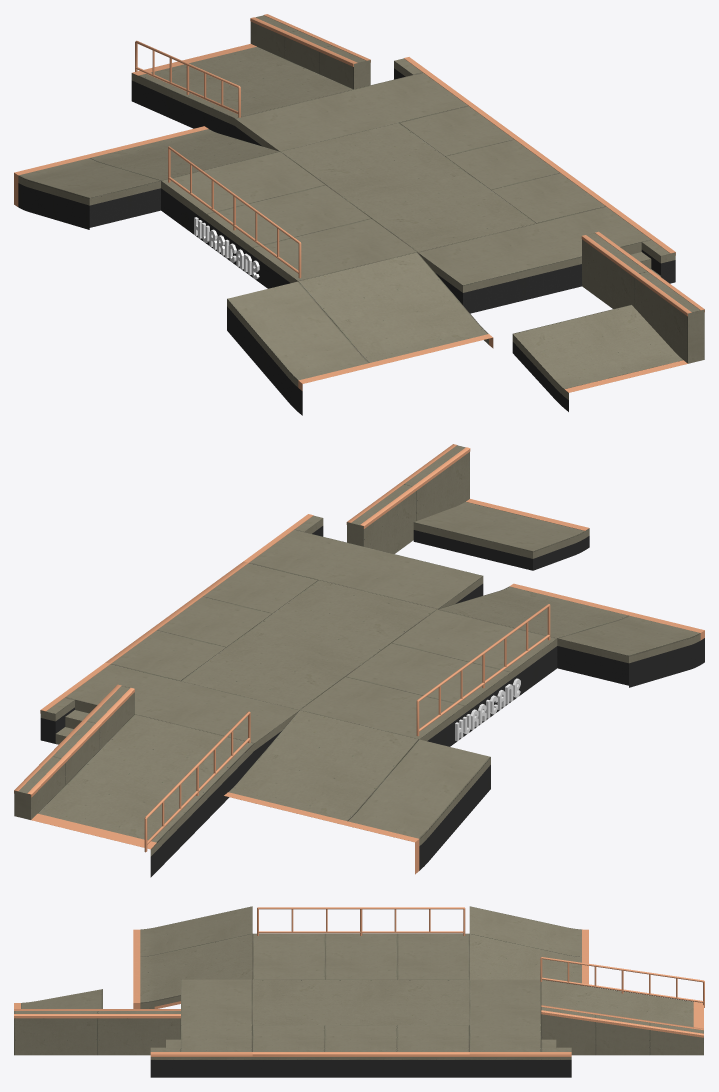
The model's file is funbox-big.glb.
The picture shows the model from 3 angles, top to bottom: view 1: azimuth 30°, elevation 25°; view 2: azimuth 150°, elevation 25°; view 3: azimuth 270°, elevation 25°; orthographic projection. The views are drawn at different scales.
Parts seen in each view (by area): view 1: FunboxBigWood, FunboxBigBase, FunboxBigHubba, FunboxBigAngleIron, FunboxBigMetal, FunboxBigStraightRail, FunboxBigDownRail, HURRICANE; view 2: FunboxBigWood, FunboxBigBase, FunboxBigHubba, FunboxBigAngleIron, FunboxBigMetal, FunboxBigStraightRail, FunboxBigDownRail, HURRICANE; view 3: FunboxBigWood, FunboxBigHubba, FunboxBigBase, FunboxBigAngleIron, FunboxBigStraightRail, FunboxBigMetal, FunboxBigDownRail.
Boxes of the visible parts, x1,y1,x2,y2 form: FunboxBigWood: (18,46,682,399); FunboxBigBase: (18,68,675,415); FunboxBigHubba: (250,15,704,363); FunboxBigAngleIron: (250,14,704,316); FunboxBigMetal: (14,43,687,392); FunboxBigStraightRail: (168,146,301,278); FunboxBigDownRail: (135,40,240,117); HURRICANE: (194,217,259,279); FunboxBigWood: (38,502,700,856); FunboxBigBase: (40,526,704,877); FunboxBigHubba: (14,445,469,819); FunboxBigAngleIron: (14,444,470,797); FunboxBigMetal: (31,499,704,874); FunboxBigStraightRail: (416,604,550,736); FunboxBigDownRail: (144,711,250,852); HURRICANE: (455,678,520,741); FunboxBigWood: (21,906,693,1059); FunboxBigHubba: (14,1007,703,1055); FunboxBigBase: (150,1060,571,1077); FunboxBigAngleIron: (14,1005,703,1056); FunboxBigStraightRail: (257,907,465,935); FunboxBigMetal: (14,929,703,1028); FunboxBigDownRail: (540,957,704,1007).
Bounding box in the file's own units: 79.04 × 19.15 × 156.
Materials: 4 (3 with a texture image).
